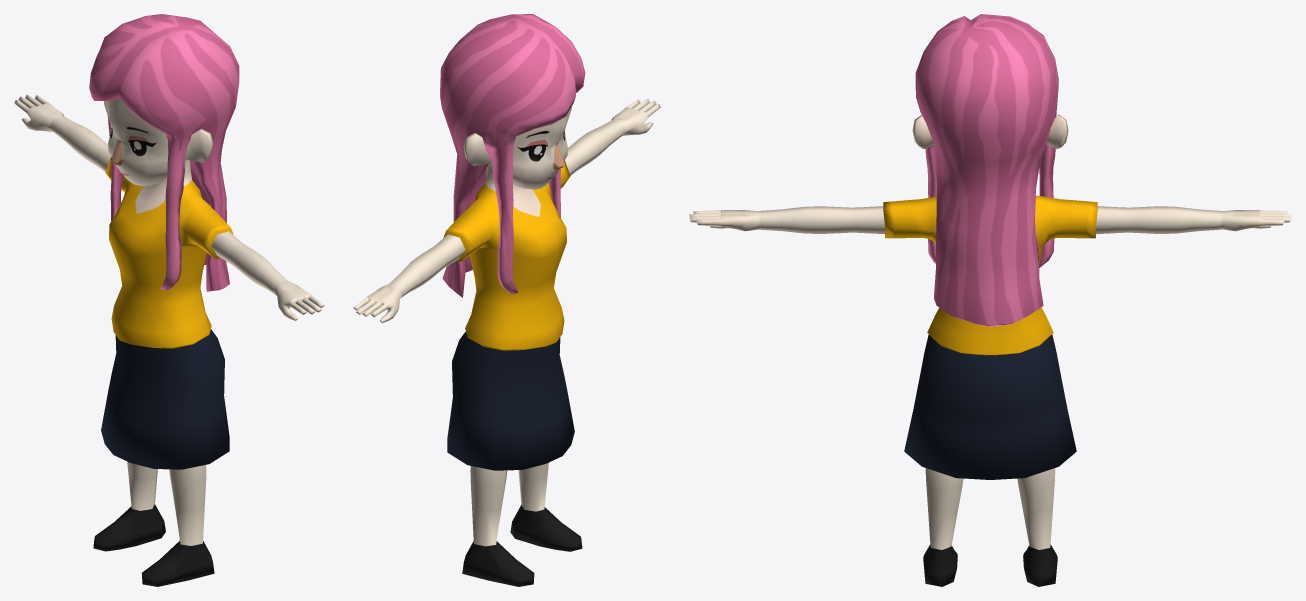
File: girl_2.fbx
3 views of the same model, side by side, from view 1: azimuth 30°, elevation 25°; view 2: azimuth 150°, elevation 25°; view 3: azimuth 270°, elevation 25° (orthographic). The views are drawn at different scales.
Visible parts, largest first — view 1: girl_2; view 2: girl_2; view 3: girl_2.
Part boxes in pixels (x1,y1,x2,y2): girl_2: [14, 14, 324, 586]; girl_2: [353, 14, 660, 586]; girl_2: [689, 14, 1291, 586].
Size of the model in its own units: 34.45 by 137 by 136.
1 material, 1 textured.
